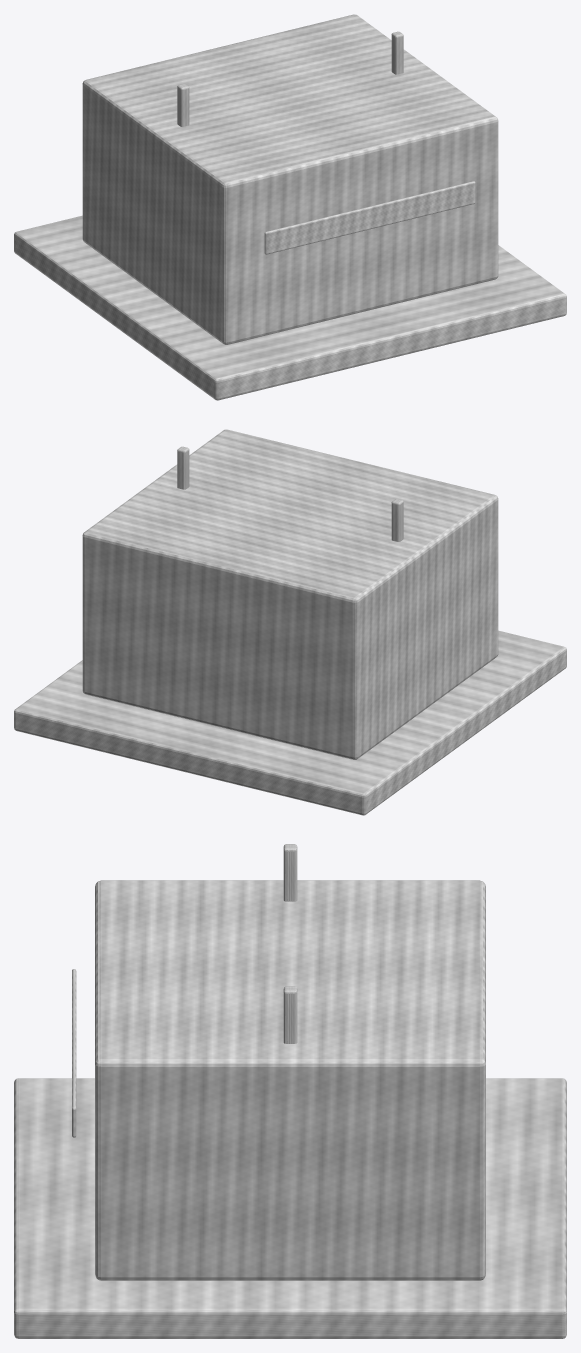
Rendered from pipeline-support_variant_c.glb.
3 renders of one model, top to bottom at view 1: azimuth 30°, elevation 25°; view 2: azimuth 150°, elevation 25°; view 3: azimuth 270°, elevation 25°, orthographic. The views are drawn at different scales.
Parts seen in each view (by area): view 1: Equipment body.002, Foundation.002, Connection plate.003, Support strut.005, Support strut.004; view 2: Equipment body.002, Foundation.002, Support strut.005, Support strut.004; view 3: Equipment body.002, Foundation.002, Support strut.004, Support strut.005, Connection plate.003.
Boxes of the visible parts, <box> form: Equipment body.002: <box>82,14,498,344</box>; Foundation.002: <box>14,215,566,400</box>; Connection plate.003: <box>264,181,475,254</box>; Support strut.005: <box>391,31,403,74</box>; Support strut.004: <box>177,84,189,126</box>; Equipment body.002: <box>82,429,498,759</box>; Foundation.002: <box>14,630,566,815</box>; Support strut.005: <box>177,446,189,489</box>; Support strut.004: <box>391,499,403,541</box>; Equipment body.002: <box>95,880,485,1280</box>; Foundation.002: <box>14,1078,566,1338</box>; Support strut.004: <box>283,844,297,901</box>; Support strut.005: <box>283,986,297,1043</box>; Connection plate.003: <box>72,969,76,1137</box>.
Size of what is drawn, in the model's own units: 7.36 by 4.5 by 7.36.
Materials: 4 (4 with a texture image).
